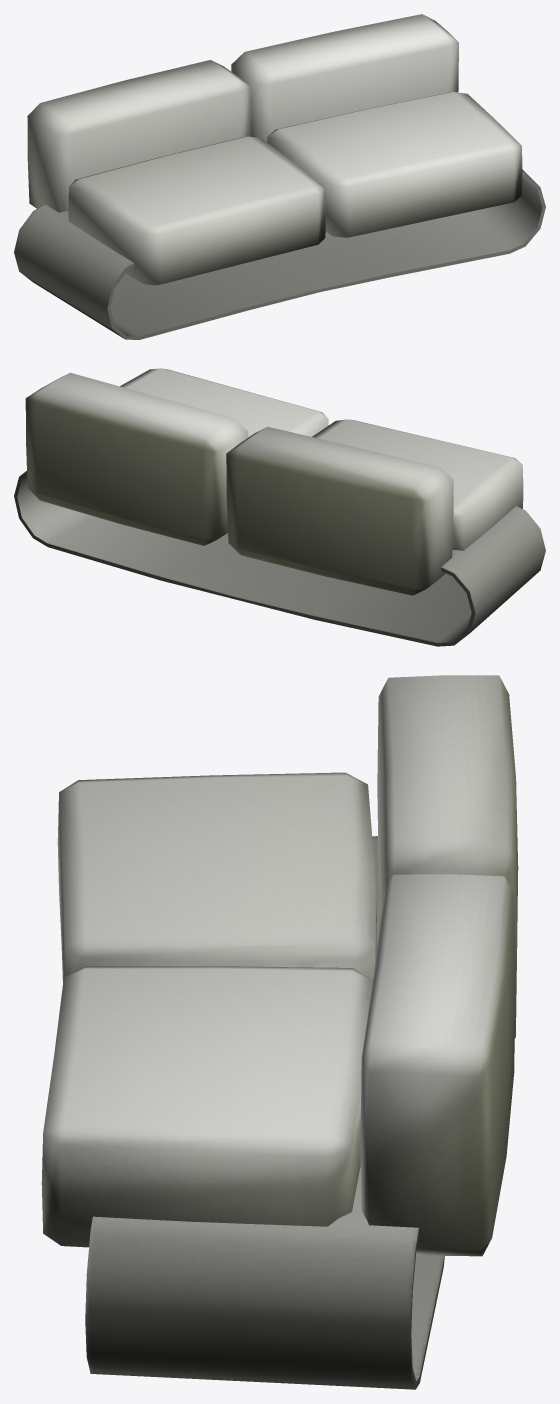
The model's file is NetW_Chair2P02_white.FBX.
The picture shows the model from 3 angles, top to bottom: view 1: azimuth 30°, elevation 25°; view 2: azimuth 150°, elevation 25°; view 3: azimuth 270°, elevation 25°; orthographic projection. The views are drawn at different scales.
Visible parts, largest first — view 1: NetW_Chair2P01; view 2: NetW_Chair2P01; view 3: NetW_Chair2P01.
Boxes of the visible parts, x1,y1,x2,y2 form: NetW_Chair2P01: (14, 14, 545, 339); NetW_Chair2P01: (14, 368, 545, 646); NetW_Chair2P01: (41, 675, 518, 1389).
Size of the model in its own units: 2.06 by 0.7159 by 0.9205.
